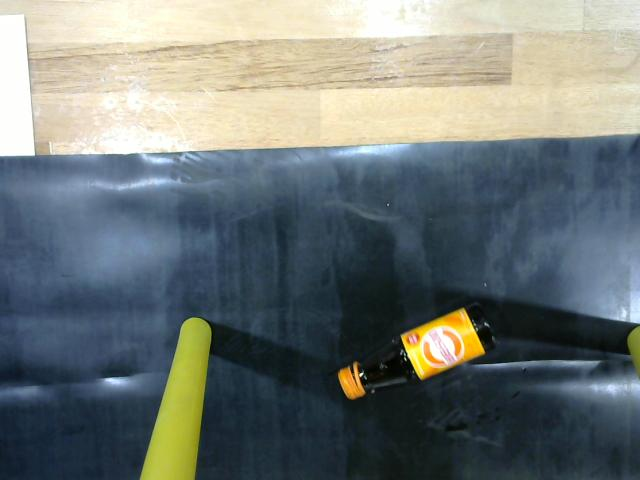glass: (338, 294, 508, 407)
